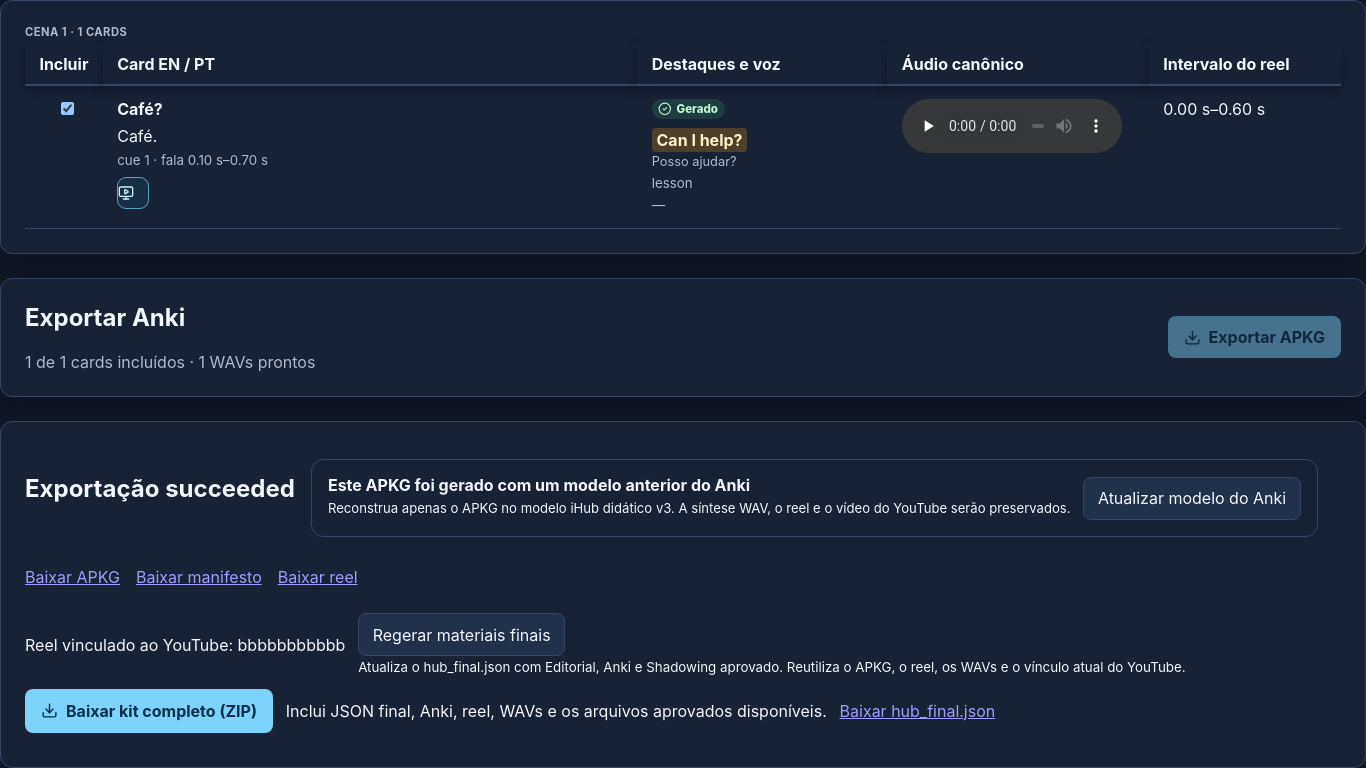
Test case: MaterialsPage › rebuilds existing didactic APKG with v3 layout without requesting WAVs or reel
The width and height of the screenshot is (1366, 768).
(page scrolled)
Click the button "Atualizar modelo do Anki" at [1192, 498], box left=1083, top=477, right=1301, bottom=520
(page scrolled)
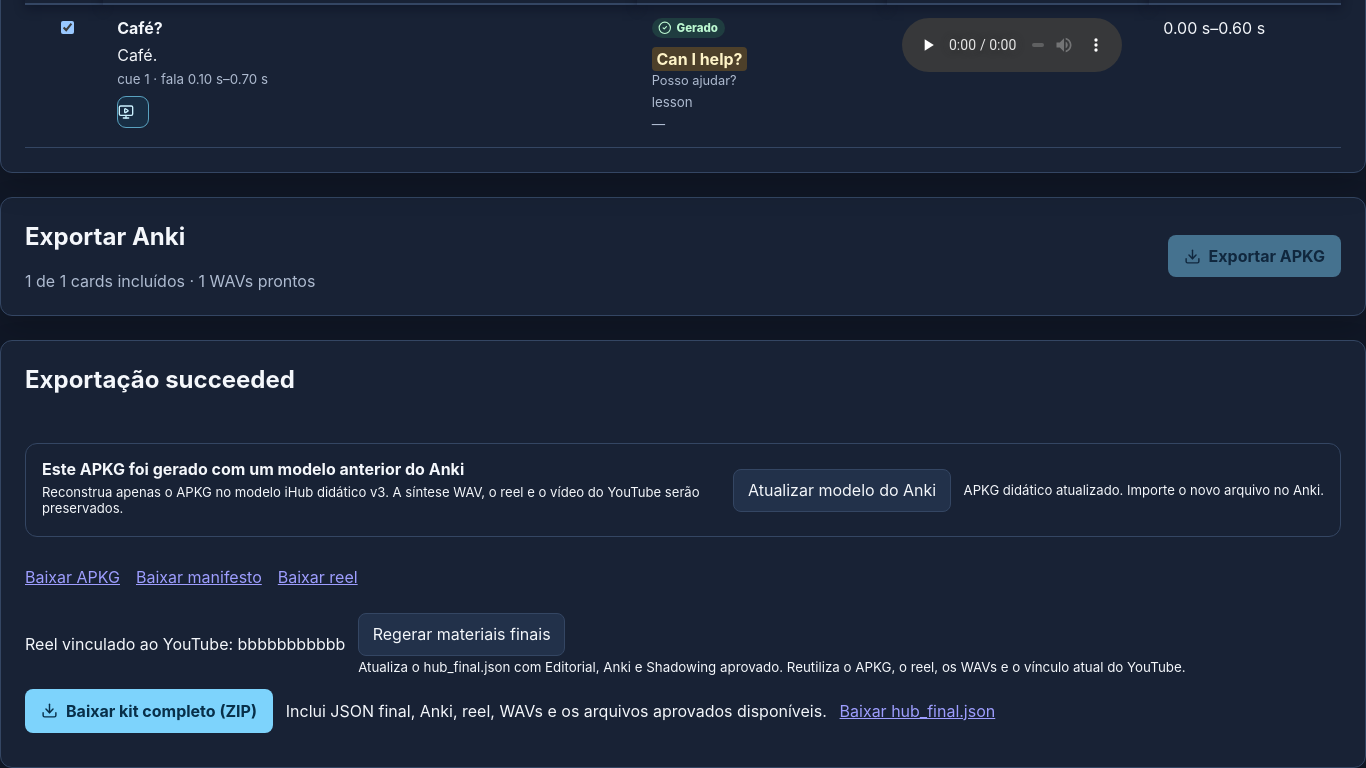
Expected: the text "APKG didático atualizado. Importe o novo arquivo no Anki." is shown, left=964, top=482, right=1324, bottom=498
